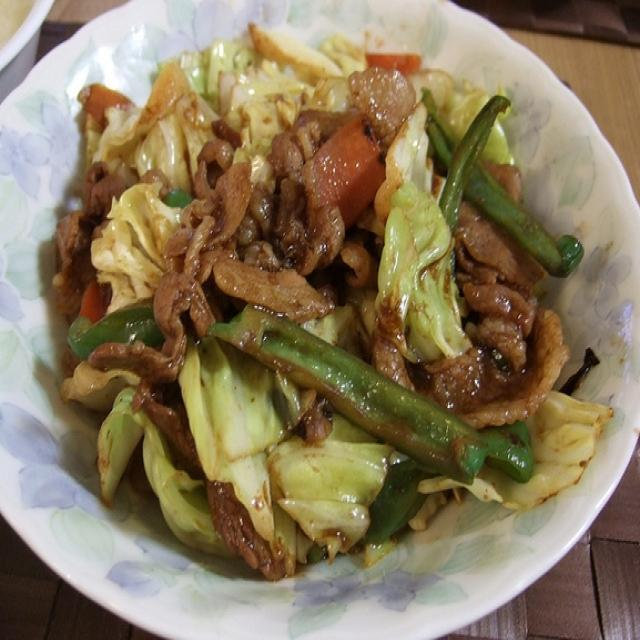蔬菜料理: (2, 263, 322, 597)
面条主食: (272, 210, 637, 640)
